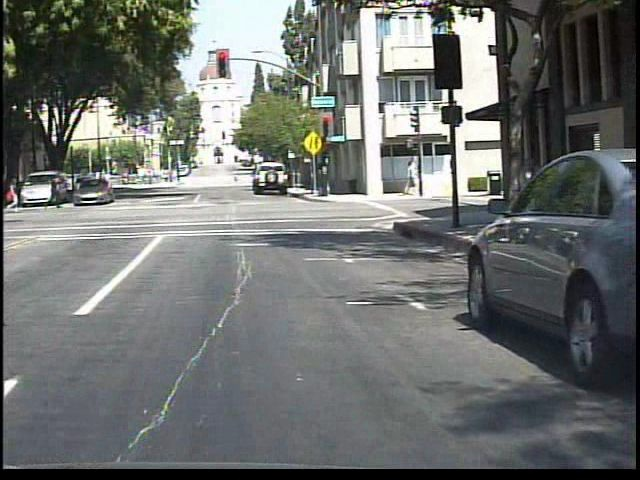person: (3, 175, 22, 215), (44, 171, 61, 212), (226, 170, 240, 187)
